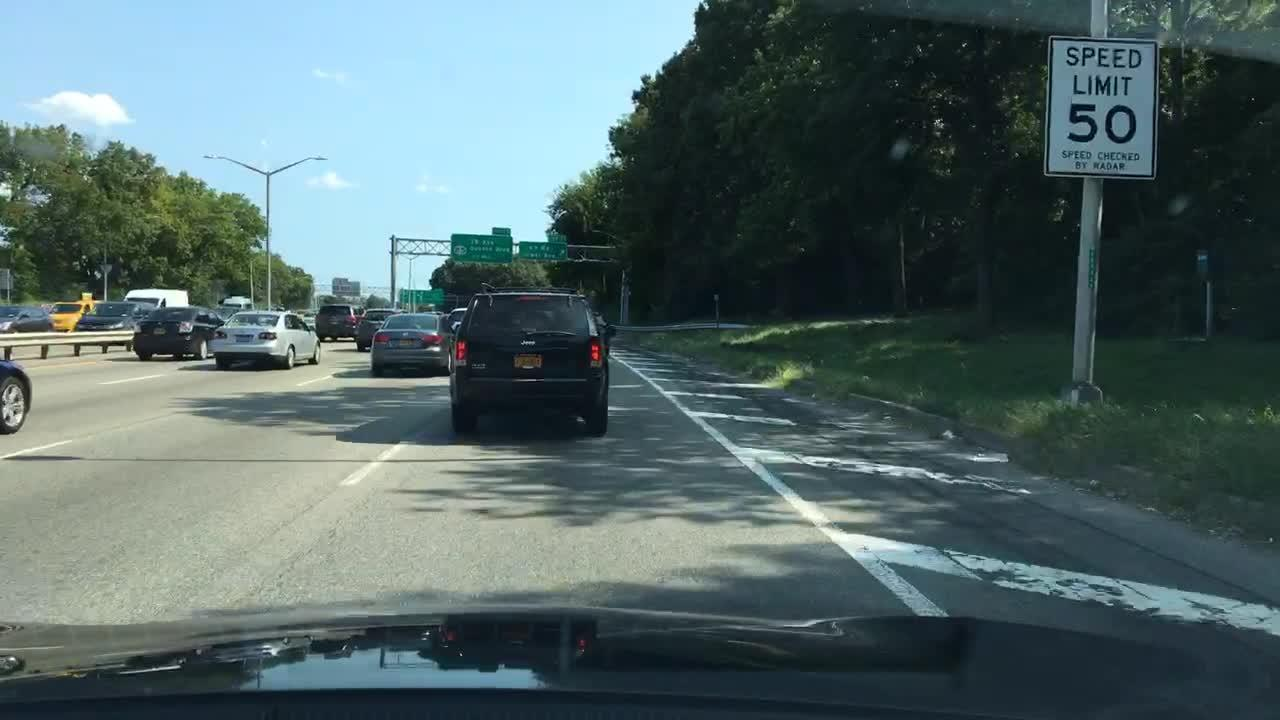jeep: (521, 338, 537, 348)
